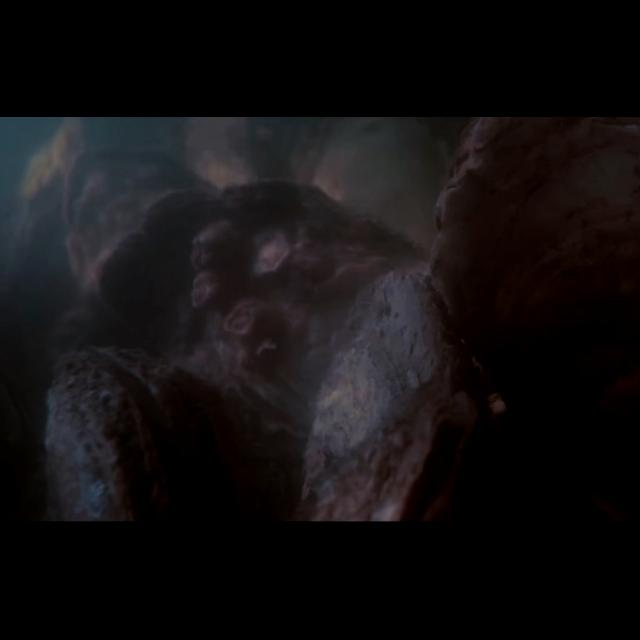Oyster-Closed: (87, 175, 419, 479), (420, 117, 640, 436), (290, 266, 474, 522)
Oyster-Open: (36, 343, 234, 523), (367, 389, 479, 523)
